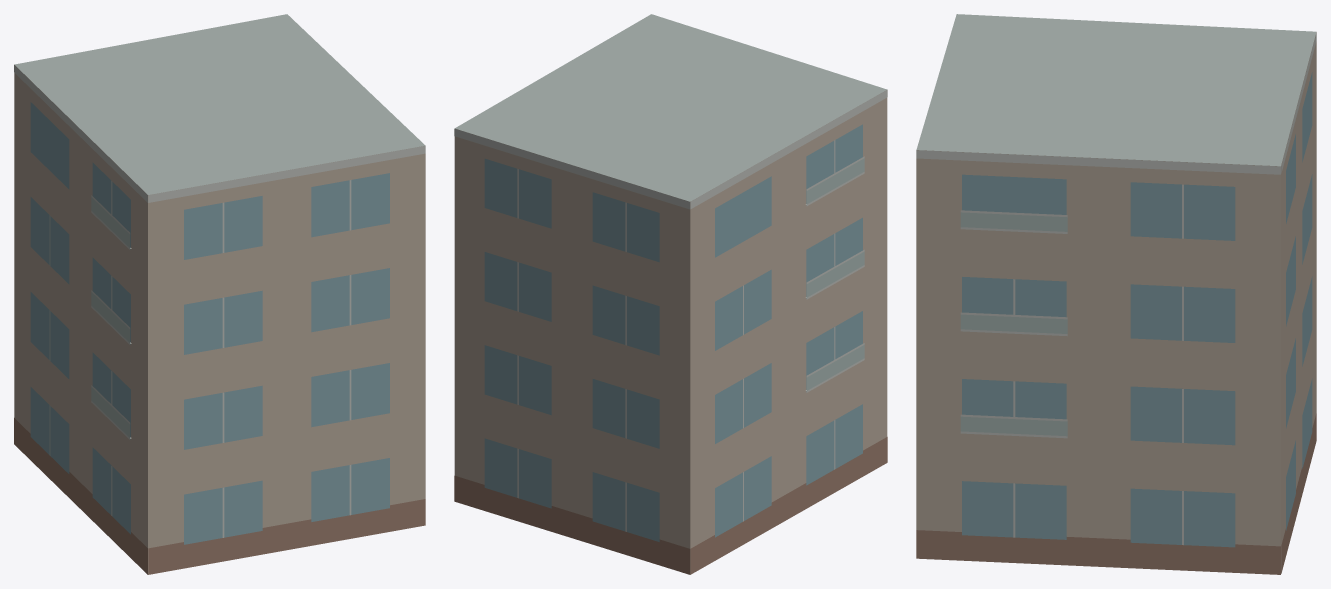
File: survey-upis-32965350.glb
3 views of the same model, side by side, from view 1: azimuth 30°, elevation 25°; view 2: azimuth 150°, elevation 25°; view 3: azimuth 270°, elevation 25° (orthographic). The views are drawn at different scales.
Parts seen in each view (by area): view 1: survey-upis-32965350.tmp; view 2: survey-upis-32965350.tmp; view 3: survey-upis-32965350.tmp.
Boxes of the visible parts, bbox=[...] form: survey-upis-32965350.tmp: bbox=[14, 14, 425, 574]; survey-upis-32965350.tmp: bbox=[454, 14, 887, 574]; survey-upis-32965350.tmp: bbox=[916, 14, 1316, 574].
Bounding box in the file's own units: 9.36 × 11.7 × 10.4.
